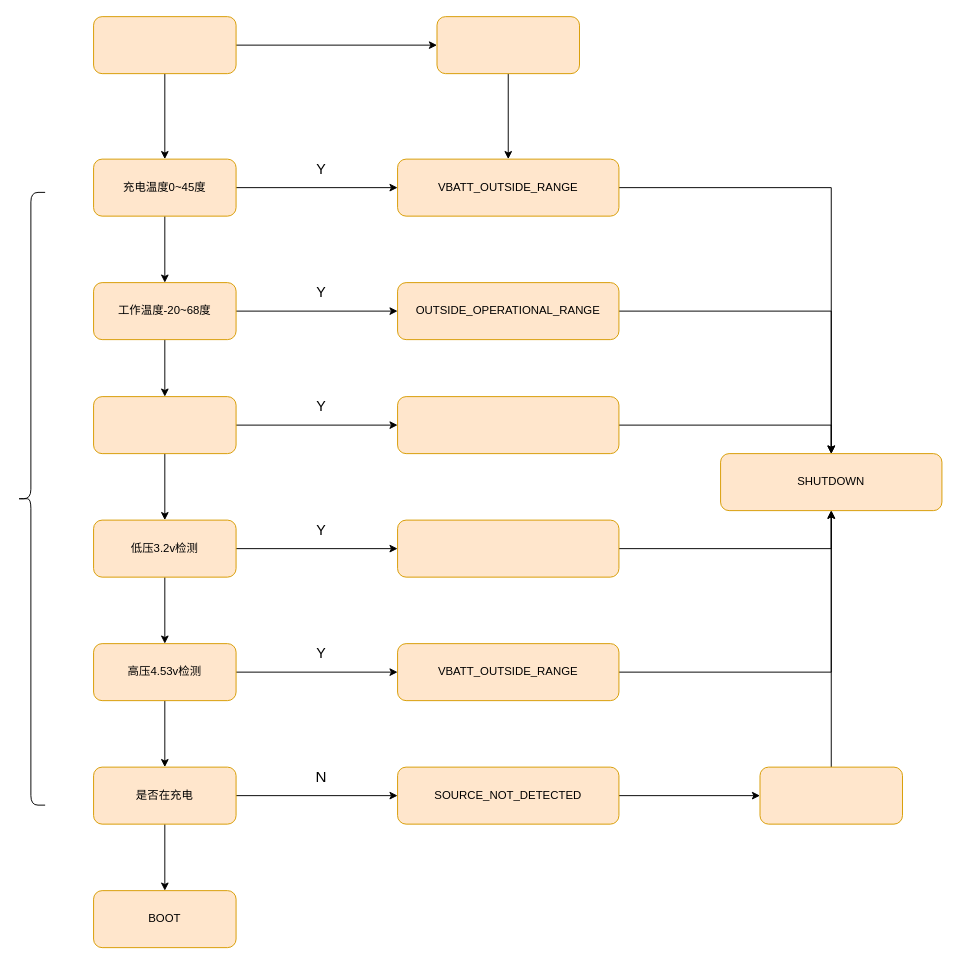
The diagram is 959 pixels wide and 964 high, and some of its shapes have lost their labels. Each missing label, with the centre of its shape:
BAD_BATTERY: point 508,425
ChargerLib_GetErrorAction: point 508,45
ChargerLib_GetErrors: point 164,45
LOW_VBATT: point 508,548
低压3.45v检测: point 830,795
坏电池检测2v: point 164,425
